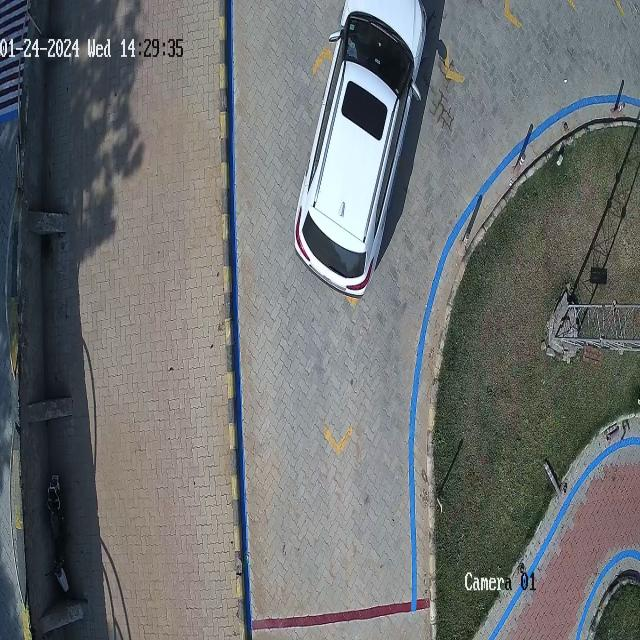car: (292, 0, 426, 296)
